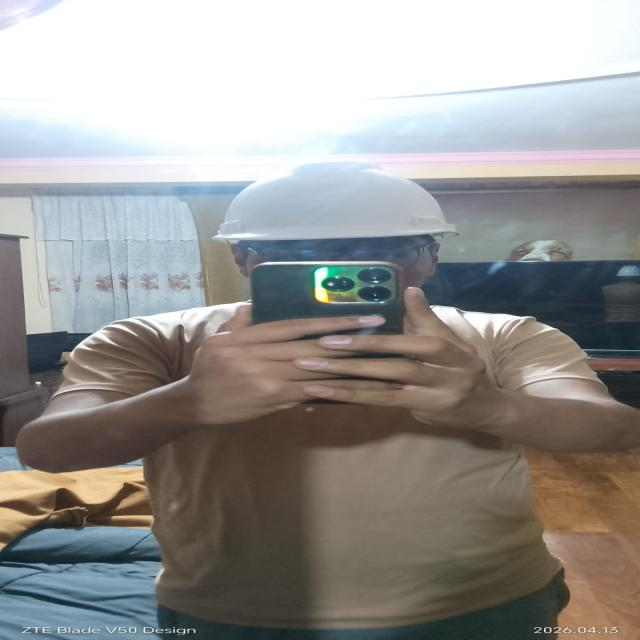casco: (175, 154, 519, 254)
